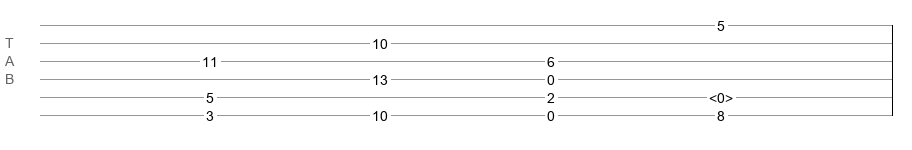0: (547, 108, 555, 118), (547, 72, 555, 82)
10: (372, 108, 388, 118), (372, 36, 388, 46)
11: (202, 54, 218, 64)
13: (372, 72, 388, 82)
2: (547, 90, 555, 100)
3: (206, 108, 214, 118)
5: (206, 90, 214, 100), (717, 18, 725, 28)
6: (547, 54, 555, 64)
8: (717, 108, 725, 118)
harmonic: (709, 90, 733, 100)
